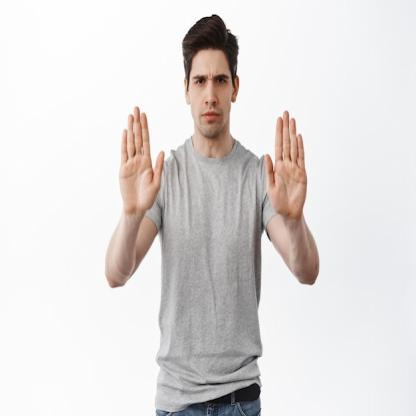stop: (258, 108, 310, 224), (115, 106, 170, 211)
